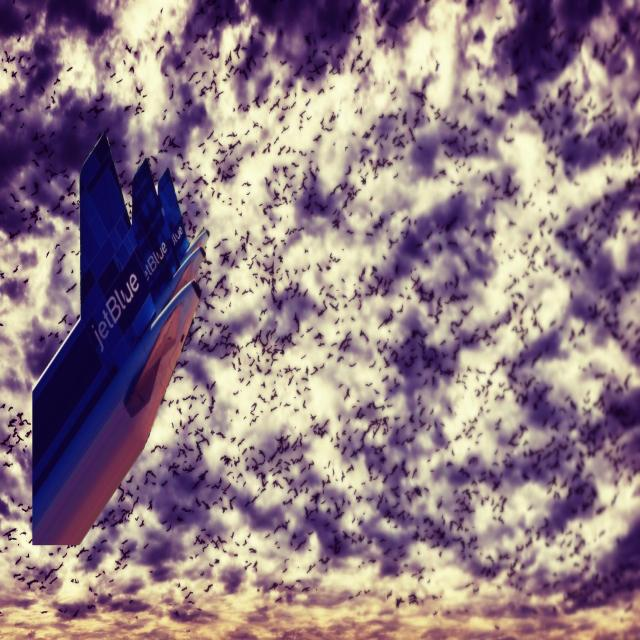airplane: (31, 128, 209, 546)
